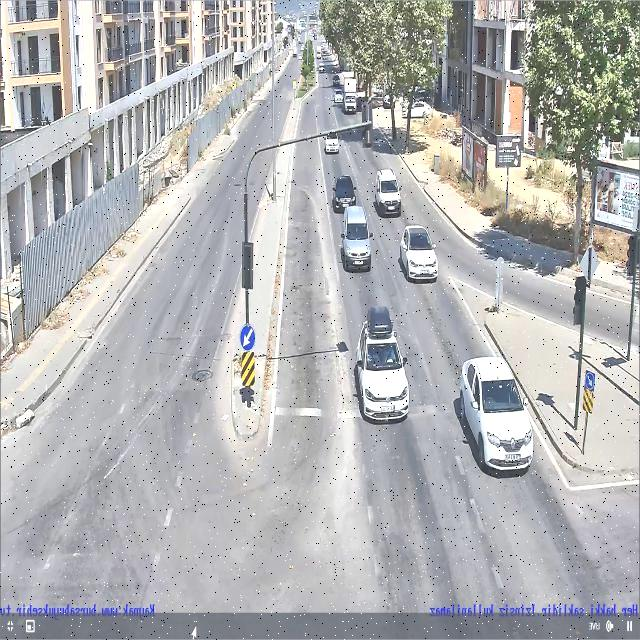car: (455, 352, 533, 480), (353, 319, 412, 429), (400, 224, 438, 294), (342, 204, 372, 274)
